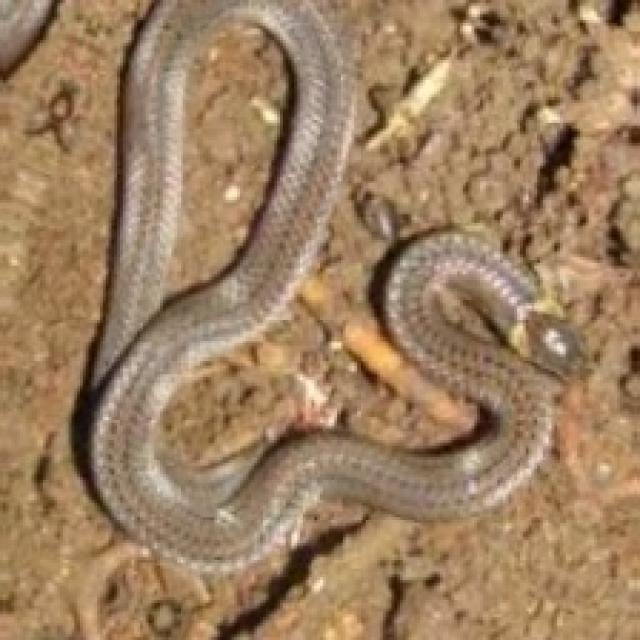gervais worm snake: (74, 0, 580, 569)
